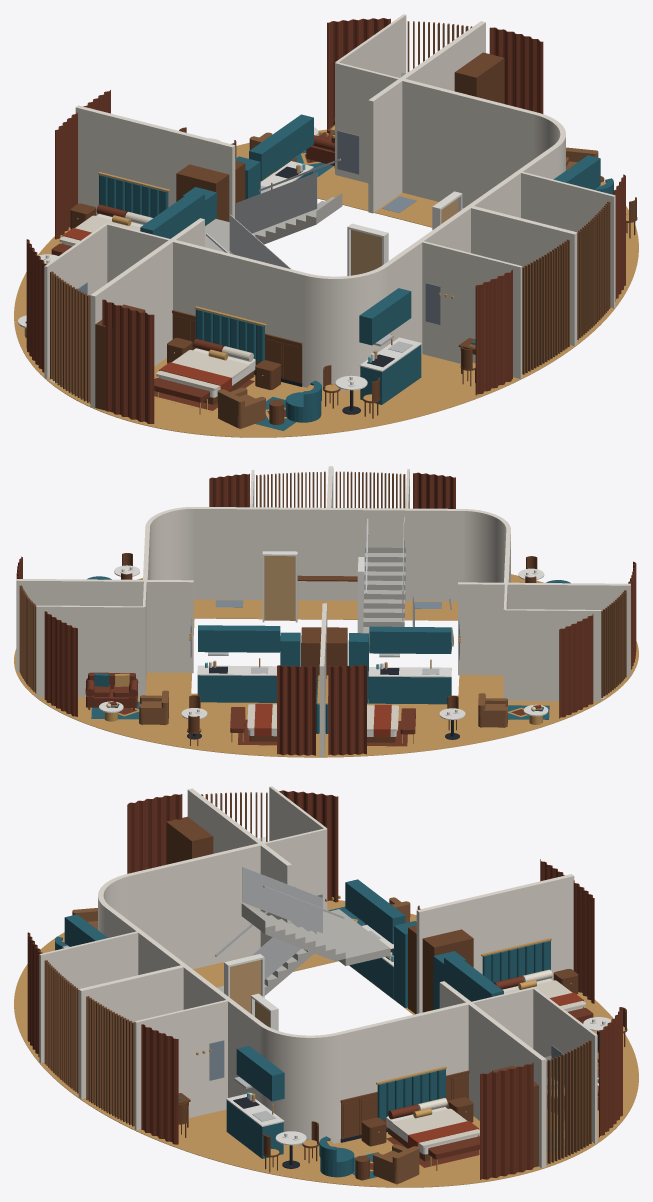
The picture shows the model from 3 angles, top to bottom: view 1: azimuth 30°, elevation 25°; view 2: azimuth 150°, elevation 25°; view 3: azimuth 270°, elevation 25°; orthographic projection. The views are drawn at different scales.
Visible parts, largest first — view 1: Walls, Furniture, Generic models, Casework, Floors, Railings, Doors, Stairs, Specialty equipment; view 2: Walls, Furniture, Floors, Casework, Generic models, Stairs, Doors, Specialty equipment, Railings; view 3: Walls, Furniture, Generic models, Casework, Floors, Stairs, Railings, Doors, Specialty equipment.
Boxes of the visible parts, x1=… form: Walls: x1=44, y1=14, x2=615, y2=407; Furniture: x1=18, y1=18, x2=637, y2=432; Generic models: x1=50, y1=21, x2=610, y2=403; Casework: x1=95, y1=52, x2=600, y2=412; Floors: x1=14, y1=129, x2=638, y2=437; Railings: x1=206, y1=158, x2=340, y2=269; Doors: x1=347, y1=191, x2=462, y2=275; Stairs: x1=205, y1=193, x2=342, y2=254; Specialty equipment: x1=182, y1=156, x2=260, y2=225; Walls: x1=16, y1=466, x2=630, y2=756; Furniture: x1=16, y1=472, x2=636, y2=755; Floors: x1=14, y1=574, x2=638, y2=757; Casework: x1=197, y1=625, x2=451, y2=704; Generic models: x1=19, y1=471, x2=626, y2=697; Stairs: x1=363, y1=547, x2=453, y2=651; Doors: x1=262, y1=551, x2=364, y2=633; Specialty equipment: x1=280, y1=632, x2=368, y2=703; Railings: x1=365, y1=517, x2=451, y2=626; Walls: x1=39, y1=786, x2=597, y2=1168; Furniture: x1=27, y1=790, x2=627, y2=1184; Generic models: x1=44, y1=792, x2=591, y2=1164; Casework: x1=62, y1=816, x2=564, y2=1167; Floors: x1=14, y1=900, x2=638, y2=1187; Stairs: x1=217, y1=903, x2=390, y2=995; Railings: x1=215, y1=867, x2=344, y2=979; Doors: x1=224, y1=954, x2=278, y2=1030; Specialty equipment: x1=394, y1=921, x2=466, y2=1009.
Bounding box in the file's own units: 17.03 × 4.03 × 15.32.
